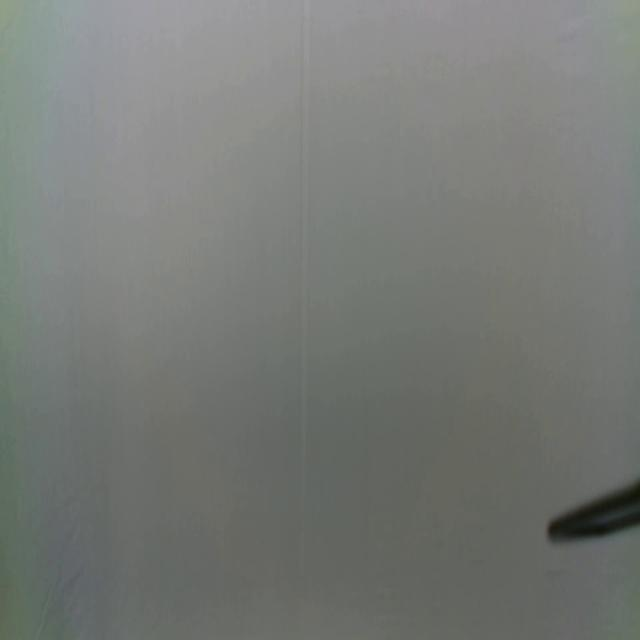crease: (294, 0, 313, 640)
